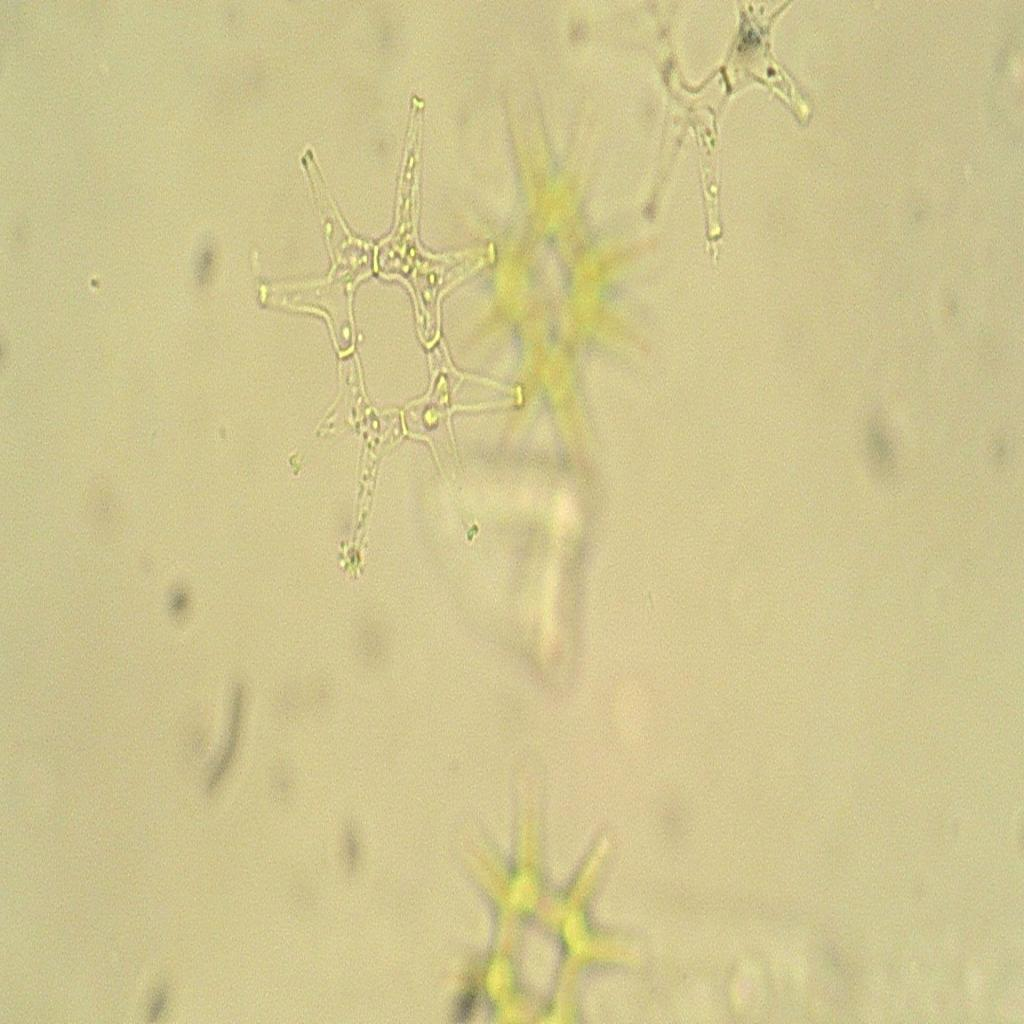Pediastrum_1F0: (242, 61, 535, 619)
